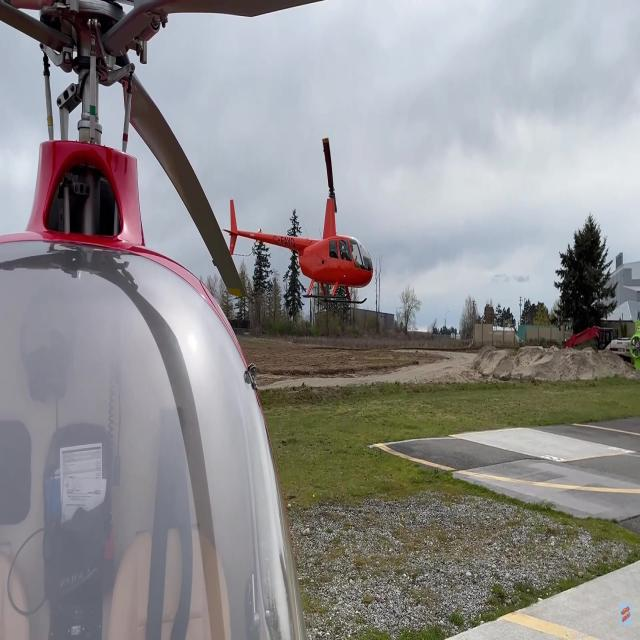CIV_HELO: (224, 190, 374, 306)
